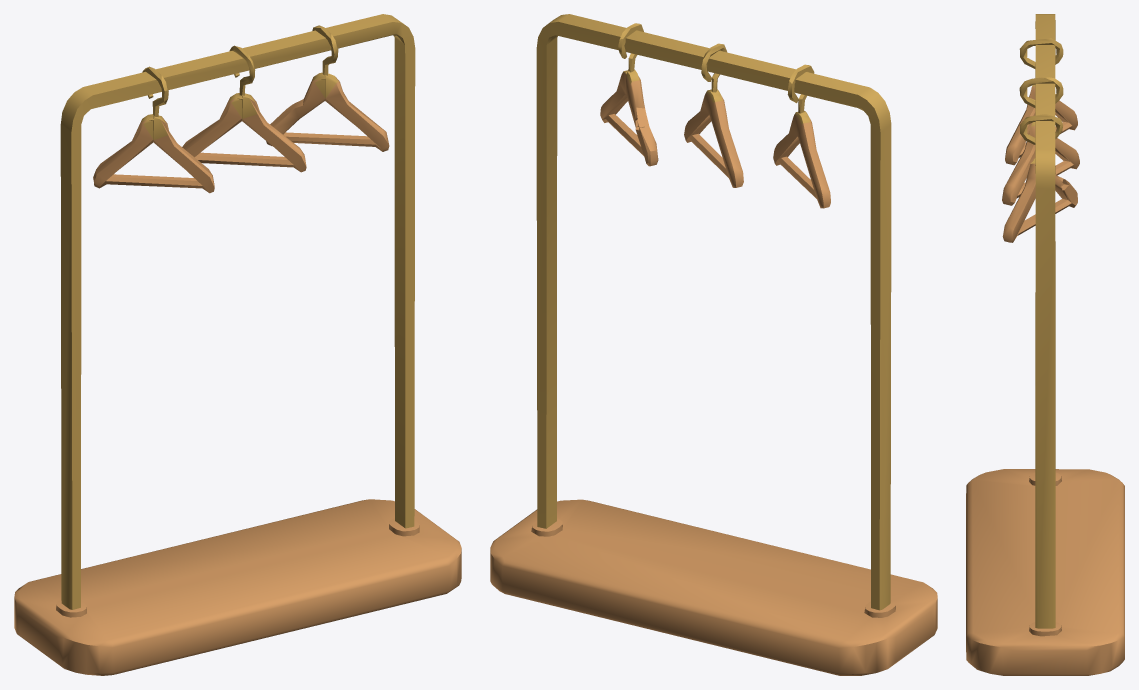
Rendered from GJH_NEW_rack_clothes.glb.
The picture shows the model from 3 angles, left to right: view 1: azimuth 30°, elevation 25°; view 2: azimuth 150°, elevation 25°; view 3: azimuth 270°, elevation 25°; orthographic projection. The views are drawn at different scales.
Visible parts, largest first — view 1: GJH_NEW_rack_clothes; view 2: GJH_NEW_rack_clothes; view 3: GJH_NEW_rack_clothes.
Part boxes in pixels (<box>): GJH_NEW_rack_clothes: <box>14,14,461,675</box>; GJH_NEW_rack_clothes: <box>490,14,937,675</box>; GJH_NEW_rack_clothes: <box>966,14,1124,675</box>.
Bounding box in the file's own units: 1.2 × 1.6 × 0.45.
